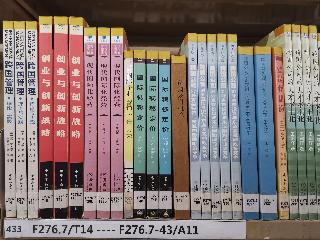book-spine: (251, 46, 279, 221), (236, 45, 260, 221), (169, 55, 192, 219), (53, 16, 71, 219), (281, 25, 299, 220), (300, 25, 318, 220), (38, 16, 55, 219), (291, 25, 308, 221), (271, 47, 290, 219), (0, 21, 16, 218), (82, 27, 98, 219), (186, 32, 202, 220), (216, 32, 232, 220), (25, 20, 40, 219), (227, 36, 243, 220), (96, 27, 111, 219), (69, 17, 83, 219), (197, 33, 212, 219), (110, 28, 124, 219), (158, 52, 174, 219), (208, 34, 222, 219), (14, 21, 27, 219), (146, 49, 159, 219), (134, 50, 146, 220), (123, 50, 133, 220)
